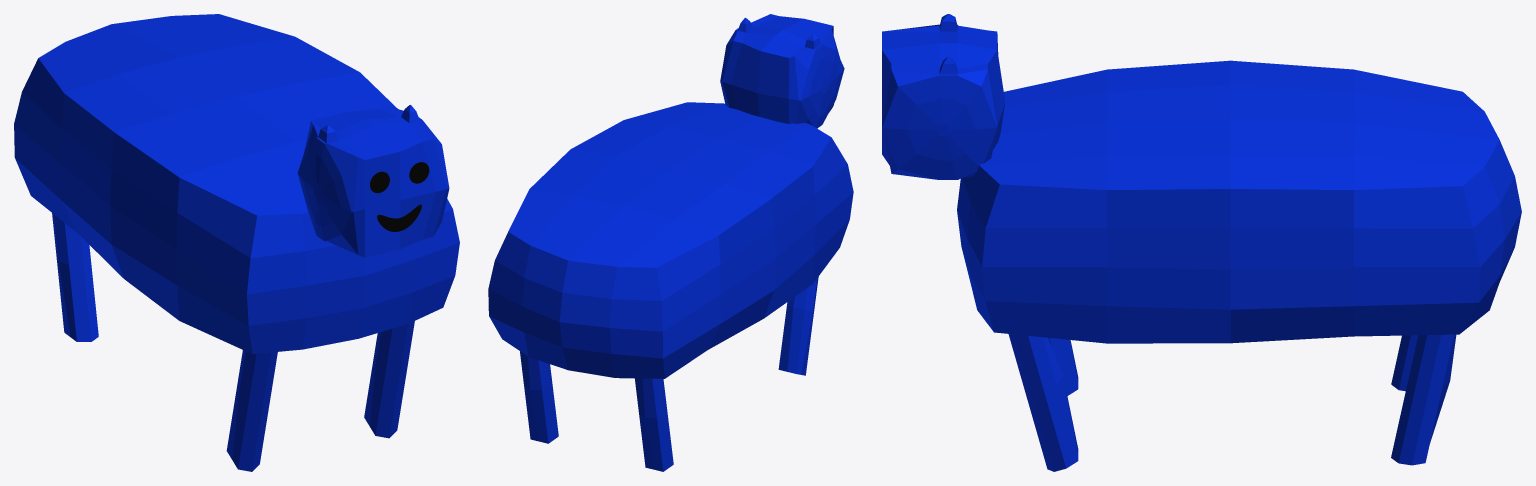
The model's file is Cat.fbx.
3 views of the same model, side by side, from view 1: azimuth 30°, elevation 25°; view 2: azimuth 150°, elevation 25°; view 3: azimuth 270°, elevation 25° (orthographic). The views are drawn at different scales.
Parts seen in each view (by area): view 1: Cube, Cube.005, Cube.002, Cube.004, Cube.001, Circle.002; view 2: Cube, Cube.005, Cube.004, Cube.003, Cube.002; view 3: Cube, Cube.005, Cube.001, Cube.003, Cube.002, Cube.004.
Boxes of the visible parts, box(x1,y1,x2,y2) form: Cube: box(14, 14, 459, 354); Cube.005: box(297, 105, 449, 257); Cube.002: box(226, 350, 277, 471); Cube.004: box(52, 213, 98, 341); Cube.001: box(364, 321, 414, 438); Circle.002: box(377, 204, 421, 231); Cube: box(488, 102, 853, 378); Cube.005: box(720, 14, 844, 128); Cube.004: box(634, 378, 673, 471); Cube.003: box(520, 351, 558, 443); Cube.002: box(778, 277, 818, 375); Cube: box(957, 60, 1521, 343); Cube.005: box(882, 14, 1005, 179); Cube.001: box(1008, 334, 1078, 471); Cube.003: box(1391, 334, 1456, 465); Cube.002: box(1048, 338, 1078, 395); Cube.004: box(1391, 335, 1417, 391).
Size of the model in its own units: 835 by 1172 by 1703.
